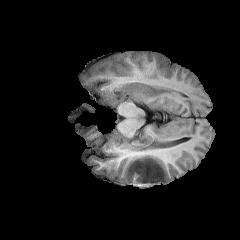glioma: (124, 154, 172, 186)
